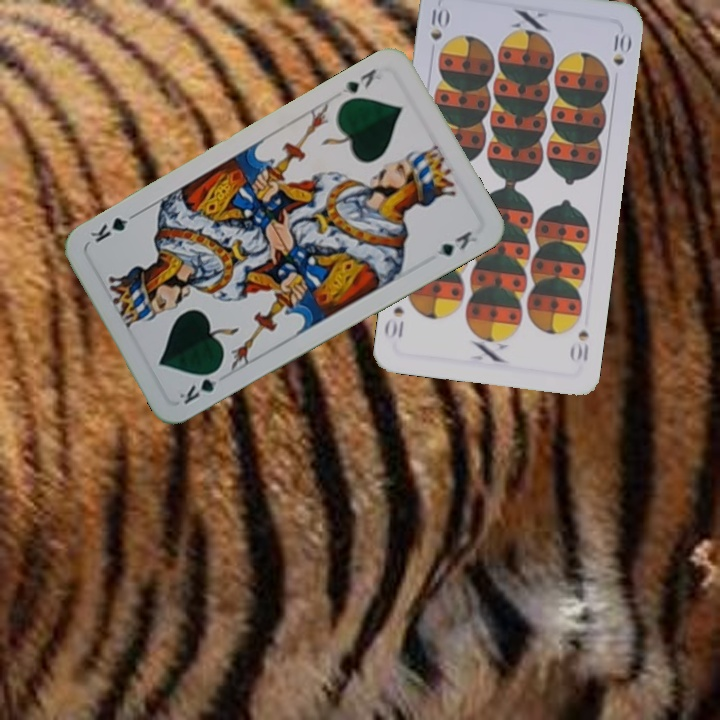GK: (175, 364, 224, 407), (338, 64, 379, 96)
S10: (566, 327, 592, 364), (426, 4, 450, 43)
